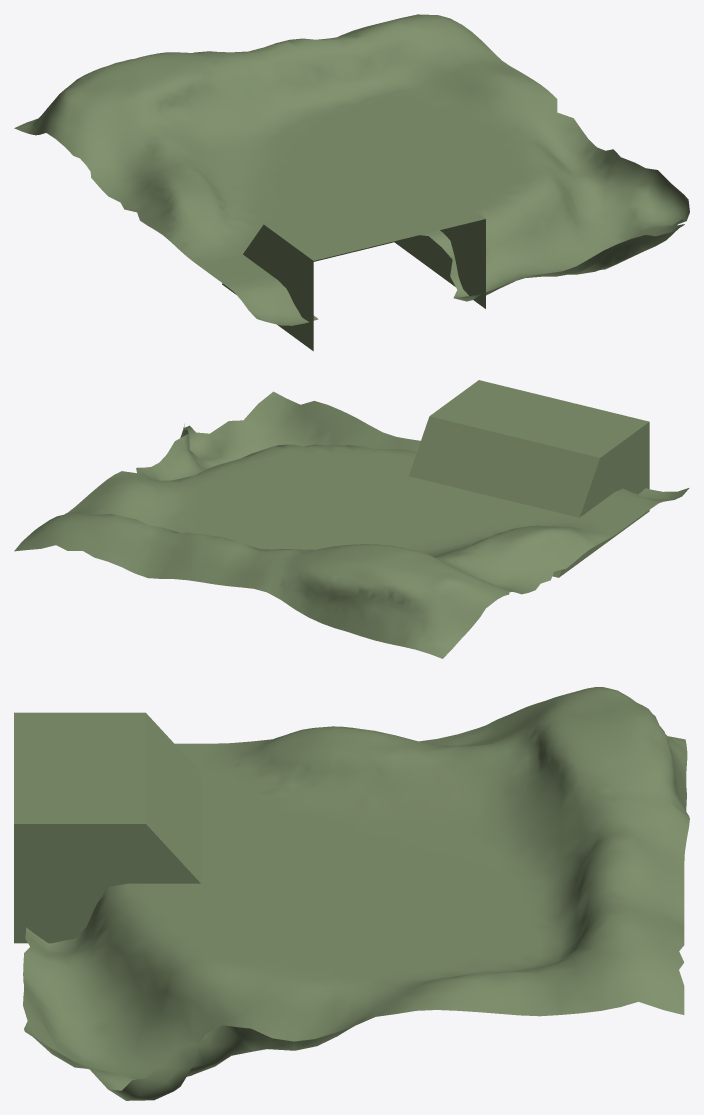
The model's file is ground.fbx.
3 views of the same model, one above another, from view 1: azimuth 30°, elevation 25°; view 2: azimuth 150°, elevation 25°; view 3: azimuth 270°, elevation 25° (orthographic). The views are drawn at different scales.
Visible parts, largest first — view 1: Ground; view 2: Ground; view 3: Ground.
Part boxes in pixels (x1=…): Ground: x1=14, y1=14, x2=689, y2=351; Ground: x1=14, y1=380, x2=689, y2=658; Ground: x1=14, y1=687, x2=689, y2=1100.
Size of the model in its own units: 10.95 by 2.71 by 10.25.
